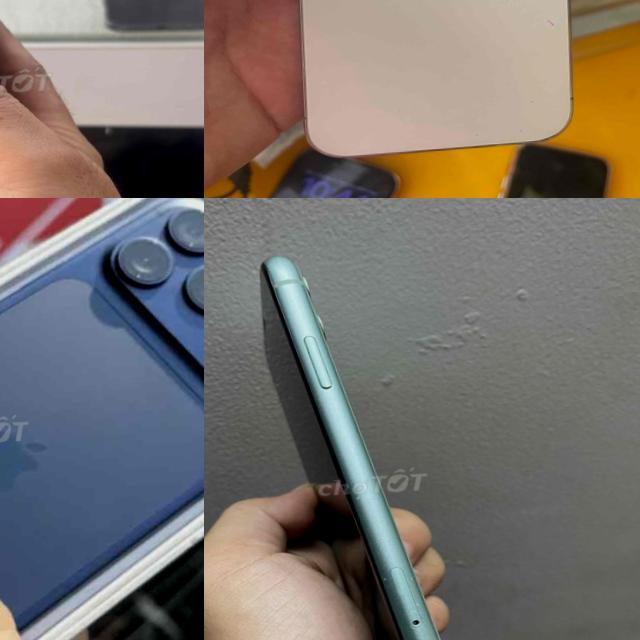gen_11: (237, 230, 471, 640)
gen_12_13: (271, 0, 591, 169)
gen_17: (0, 208, 204, 628)
